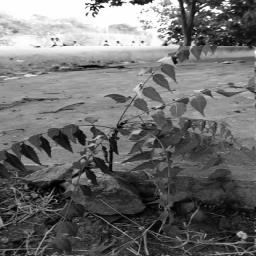Azadiractha Indica: (0, 46, 255, 255)
